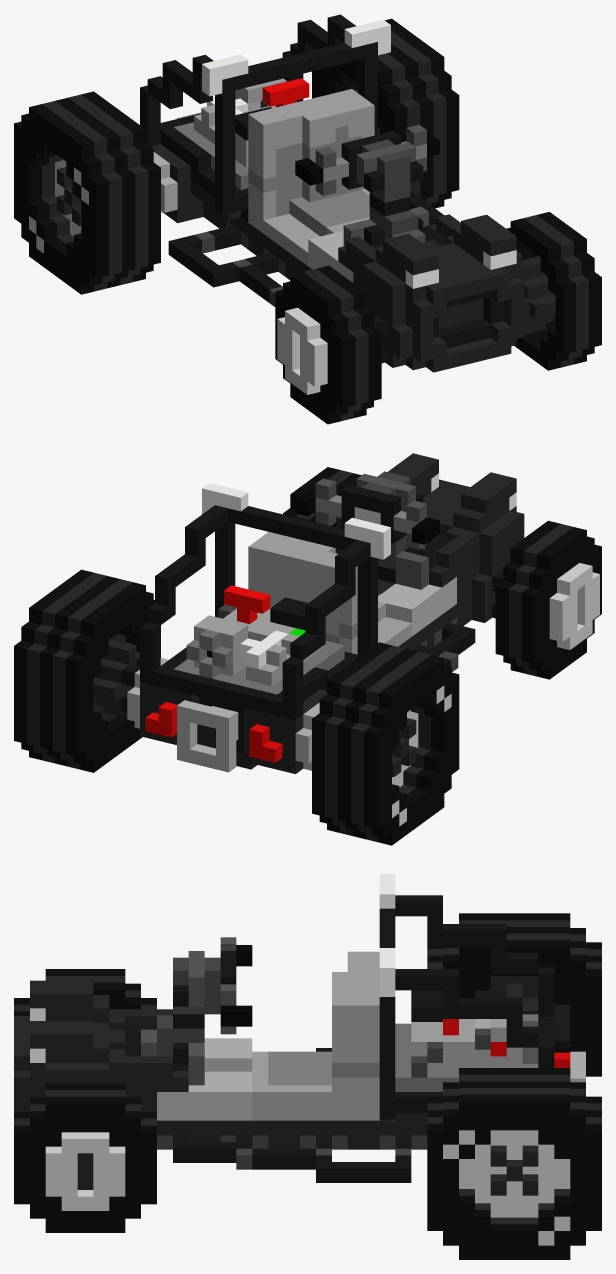
File: Midnight-Black Kart.obj
3 views of the same model, one above another, from view 1: azimuth 30°, elevation 25°; view 2: azimuth 150°, elevation 25°; view 3: azimuth 270°, elevation 25° (orthographic). The views are drawn at different scales.
Bounding box in the file's own units: 2.8 × 1.7 × 3.7.
1 material, 1 textured.
